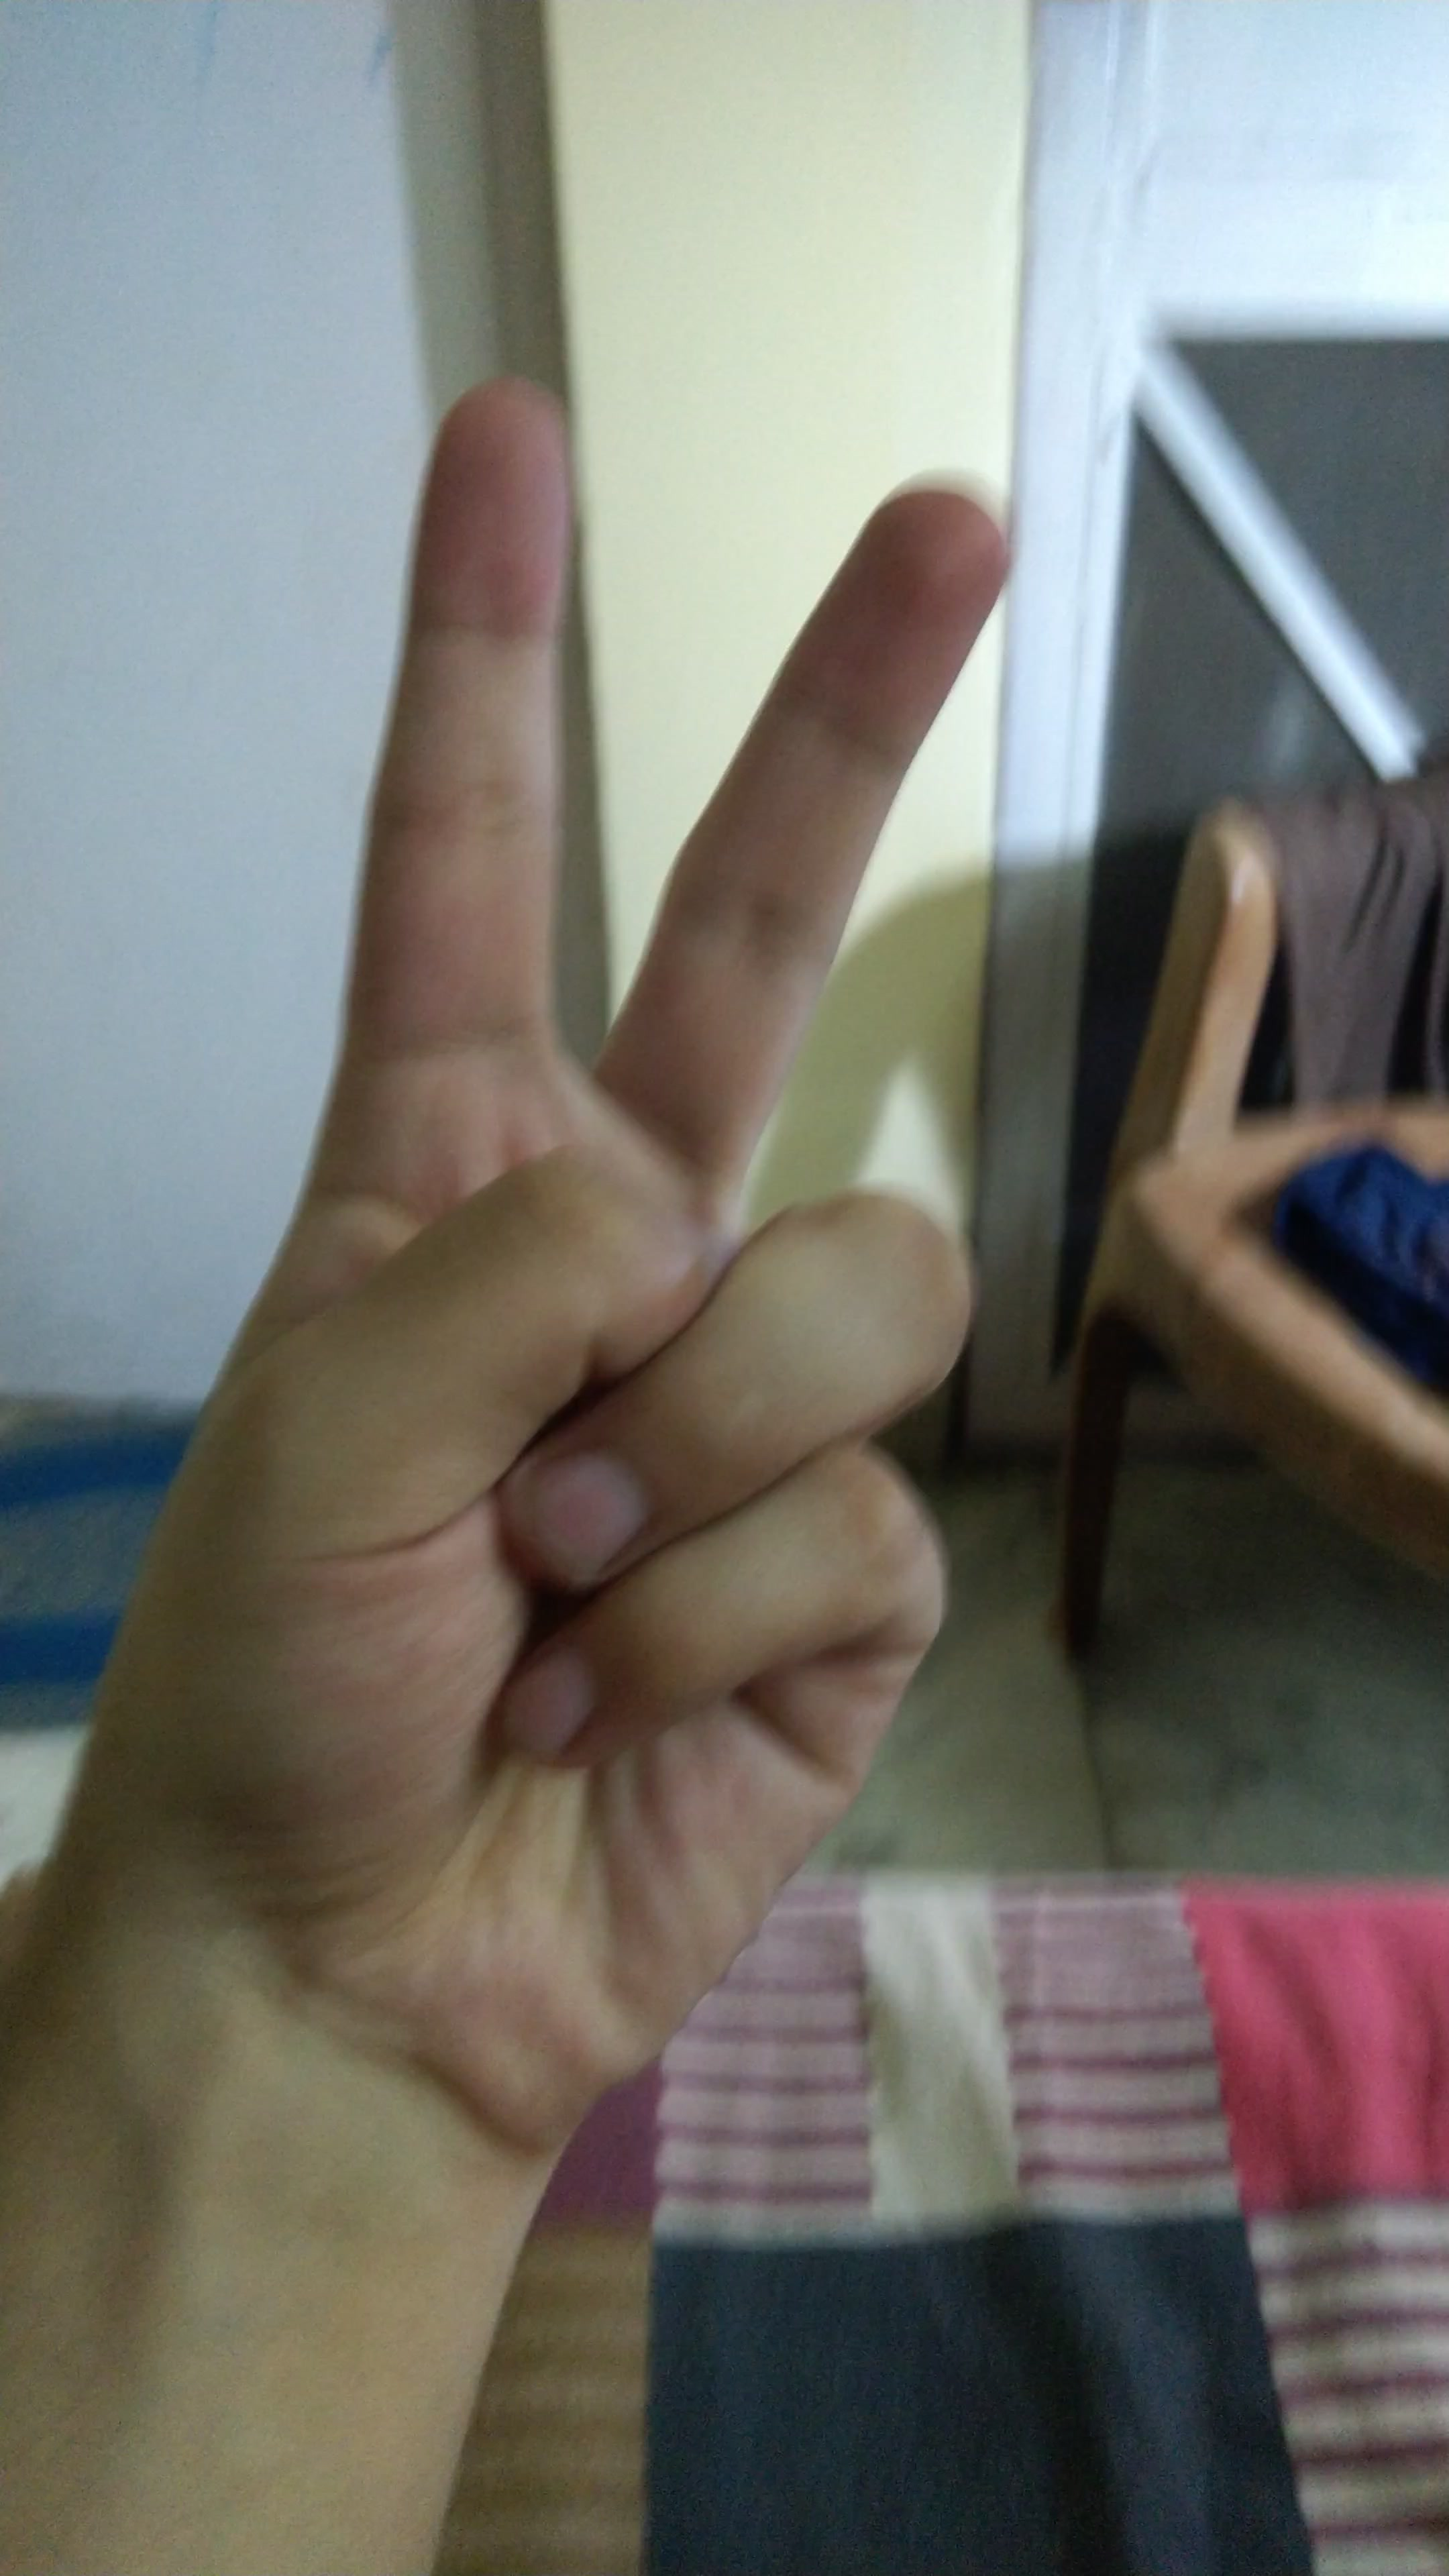hand: (55, 354, 1164, 2166)
